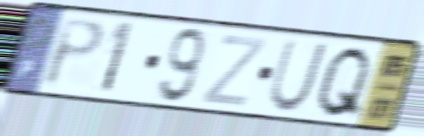1: (98, 19, 137, 98)
9: (157, 25, 209, 106)
P: (41, 15, 107, 91)
Q: (313, 43, 375, 123)
U: (265, 37, 332, 116)
Z: (198, 32, 270, 110)
